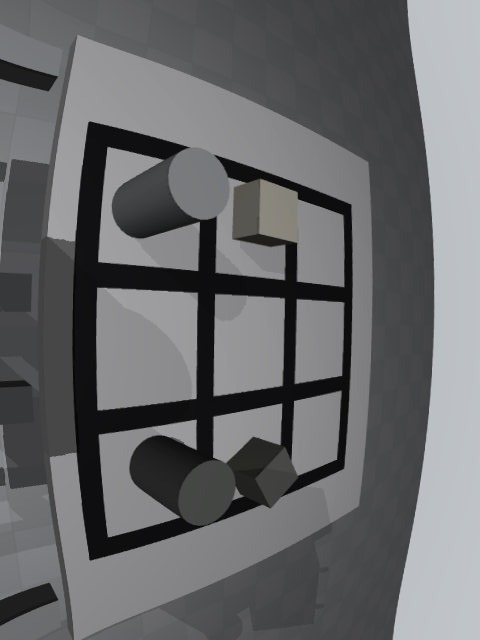can: (112, 147, 229, 238)
cube: (227, 437, 298, 508)
cylinder: (129, 435, 235, 526)
foam: (232, 179, 298, 246)
